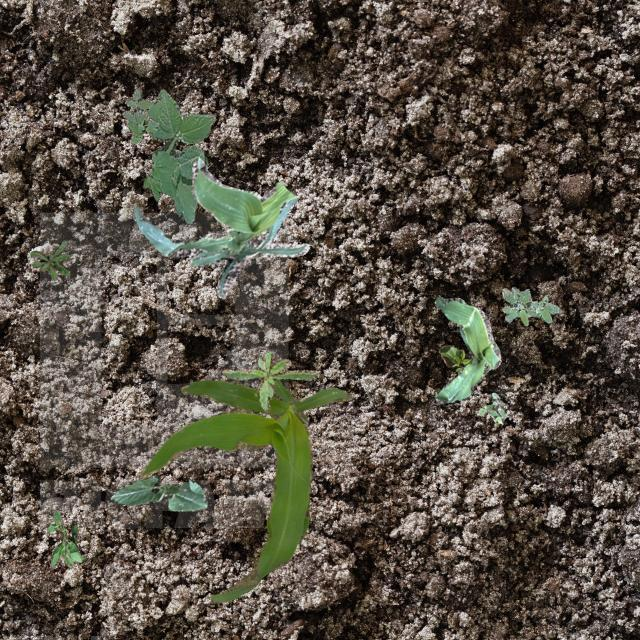crop: (138, 378, 350, 602), (132, 156, 310, 298), (434, 296, 501, 402), (110, 474, 206, 511), (438, 344, 486, 380)
weed: (143, 88, 215, 222), (222, 350, 316, 410), (500, 286, 560, 324), (46, 508, 82, 566), (121, 88, 158, 142), (30, 240, 70, 280), (476, 392, 506, 422)
